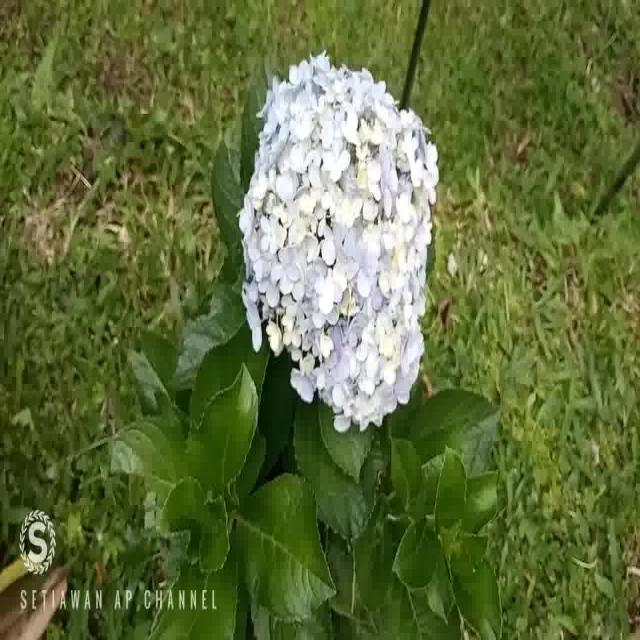Flower: (242, 40, 438, 425)
